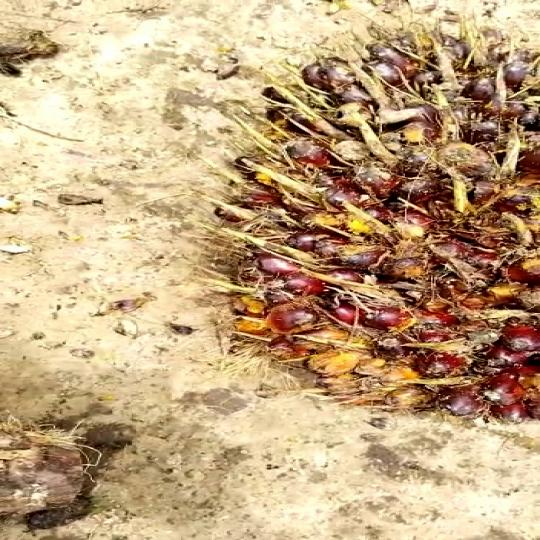masak: (243, 21, 540, 426)
